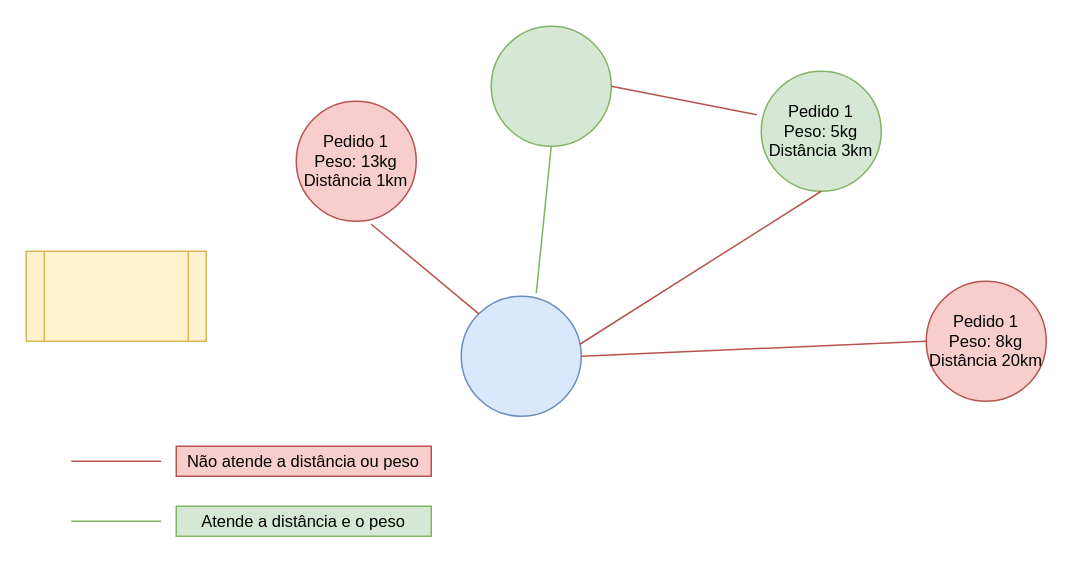
Image size: 1073x563. Some labels were removed from this diagram. The shapes that lost their labels are listed below. From the top down, each one's centre as x and y in pixels, then its label:
pixel 550 85: Pedido 1 Peso: 5kg Distância 2km
pixel 115 295: Drone Carga 12kg Distância 5km
pixel 520 355: Origem
